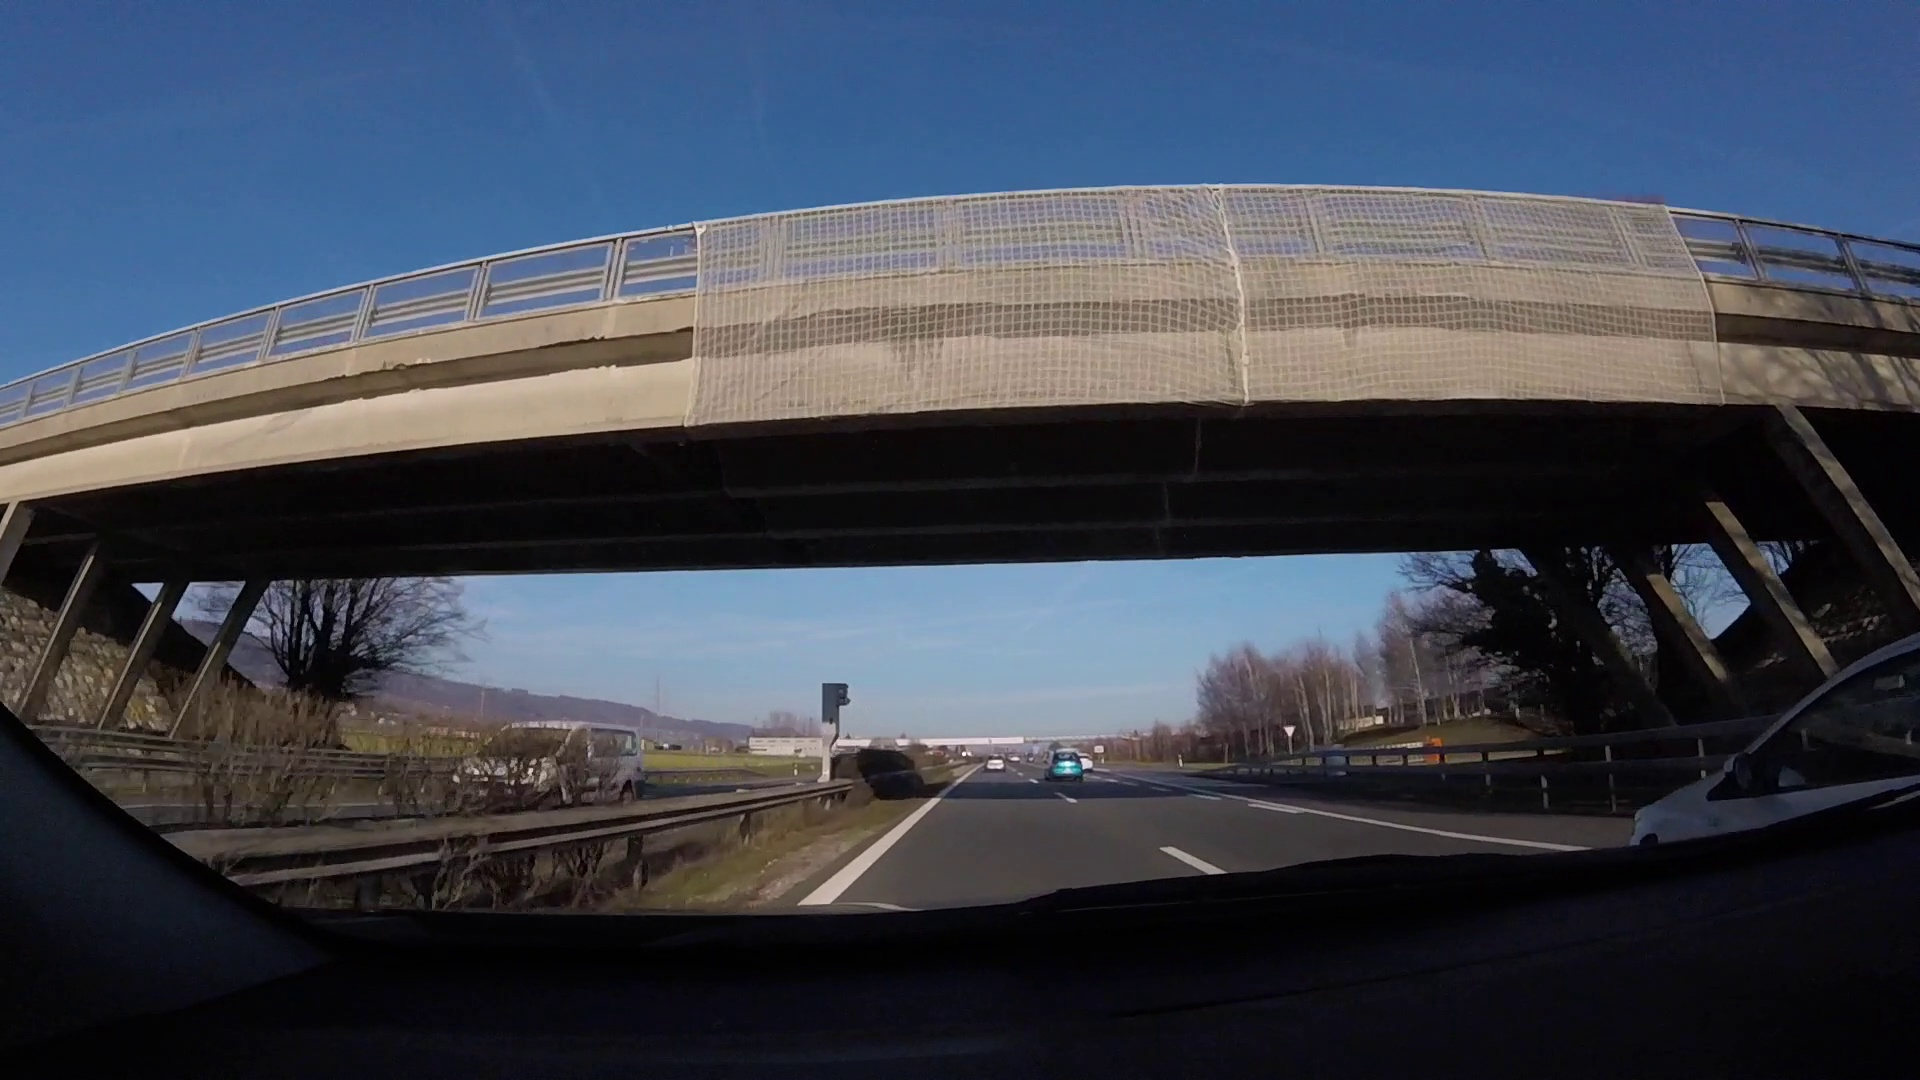radar: (819, 680, 852, 786)
